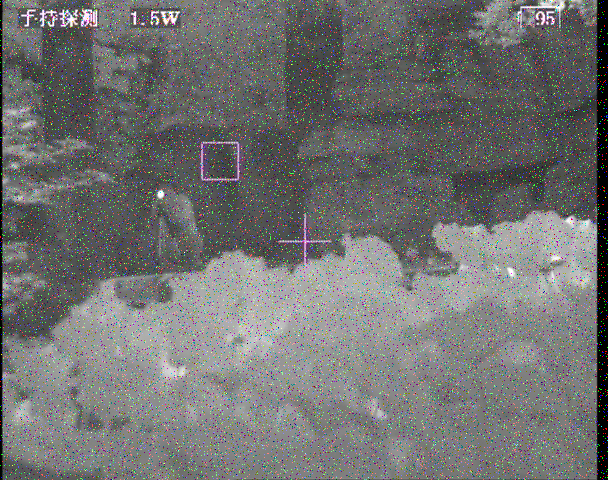my: (155, 187, 166, 201)
